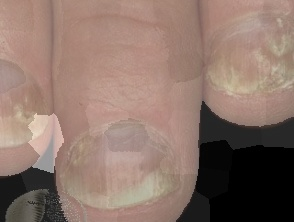Nail_psoriasis: (50, 111, 194, 222), (198, 0, 294, 114), (0, 15, 55, 158)
